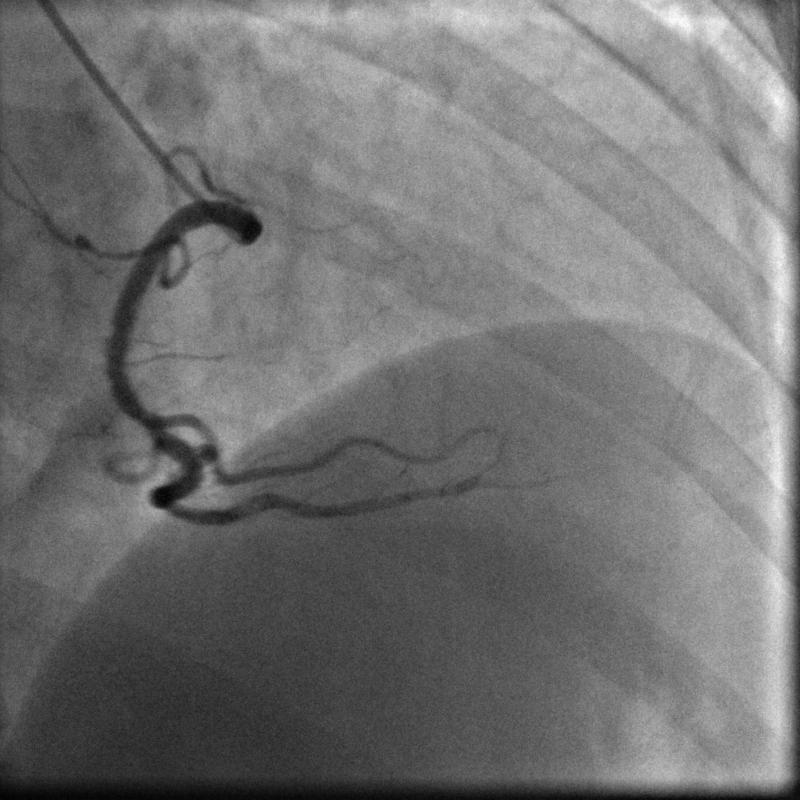Stenosis: (125, 408, 174, 441)
